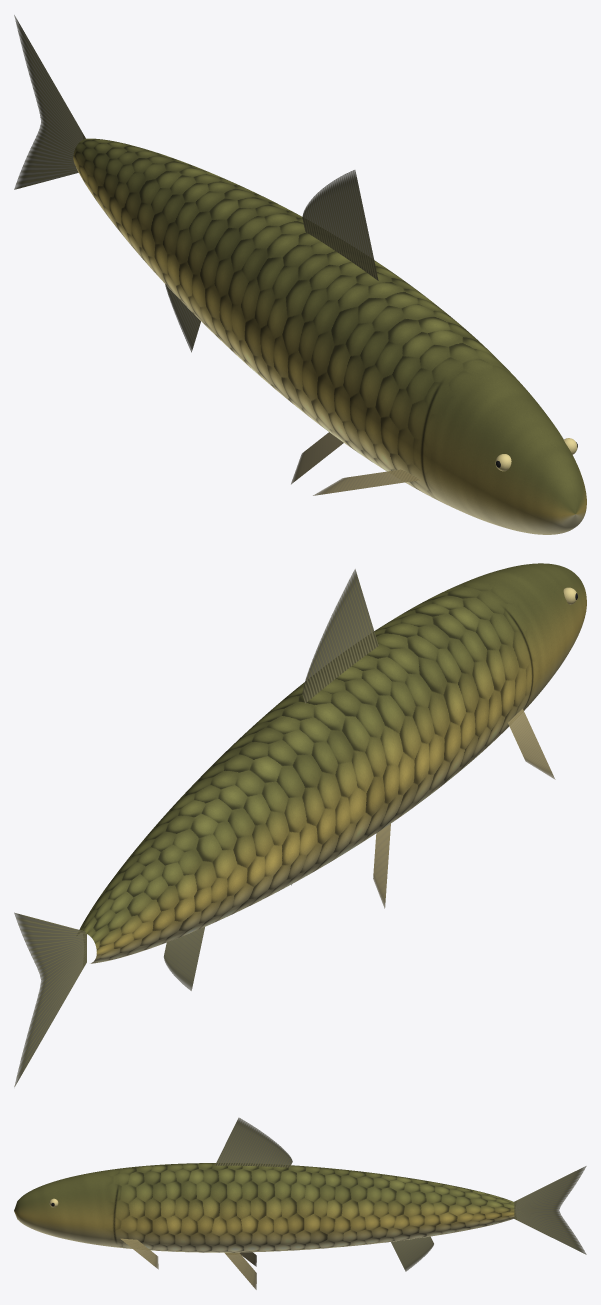
Rendered from bamur.glb.
The picture shows the model from 3 angles, top to bottom: view 1: azimuth 30°, elevation 25°; view 2: azimuth 150°, elevation 25°; view 3: azimuth 270°, elevation 25°; orthographic projection. The views are drawn at different scales.
Visible parts, largest first — view 1: body, fin_tail, fin_dorsal0, fin_pect_R, fin_pelv_R, fin_anal0; view 2: body, fin_tail, fin_dorsal0, fin_anal0, fin_pect_R, fin_pelv_R; view 3: body, fin_tail, fin_dorsal0, fin_anal0, fin_pelv_L, fin_pect_L.
Part boxes in pixels (bbox=[...]): body: bbox=[73, 138, 586, 534]; fin_tail: bbox=[14, 15, 85, 189]; fin_dorsal0: bbox=[302, 170, 378, 280]; fin_pect_R: bbox=[313, 469, 420, 495]; fin_pelv_R: bbox=[291, 432, 343, 484]; fin_anal0: bbox=[165, 284, 200, 352]; body: bbox=[79, 563, 586, 963]; fin_tail: bbox=[14, 912, 86, 1086]; fin_dorsal0: bbox=[302, 569, 378, 703]; fin_anal0: bbox=[164, 927, 204, 990]; fin_pect_R: bbox=[508, 708, 555, 779]; fin_pelv_R: bbox=[373, 823, 390, 908]; body: bbox=[14, 1163, 514, 1252]; fin_tail: bbox=[513, 1166, 586, 1254]; fin_dorsal0: bbox=[215, 1118, 292, 1167]; fin_anal0: bbox=[391, 1236, 433, 1271]; fin_pelv_L: bbox=[224, 1252, 256, 1289]; fin_pect_L: bbox=[120, 1238, 158, 1269].
Bounding box in the file's own units: 0.1876 × 0.2334 × 0.75.
5 materials, 3 textured.
